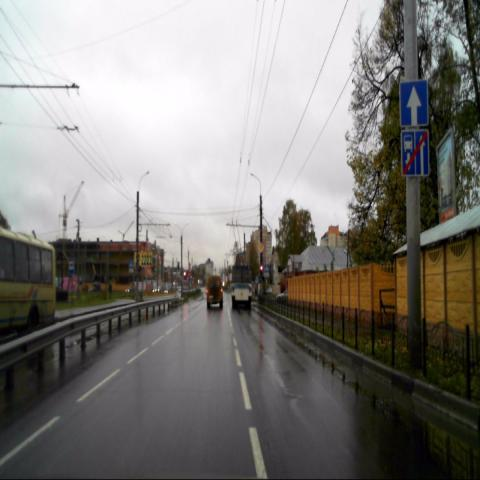5_12: (401, 129, 429, 176)
5_5: (399, 79, 427, 127)
